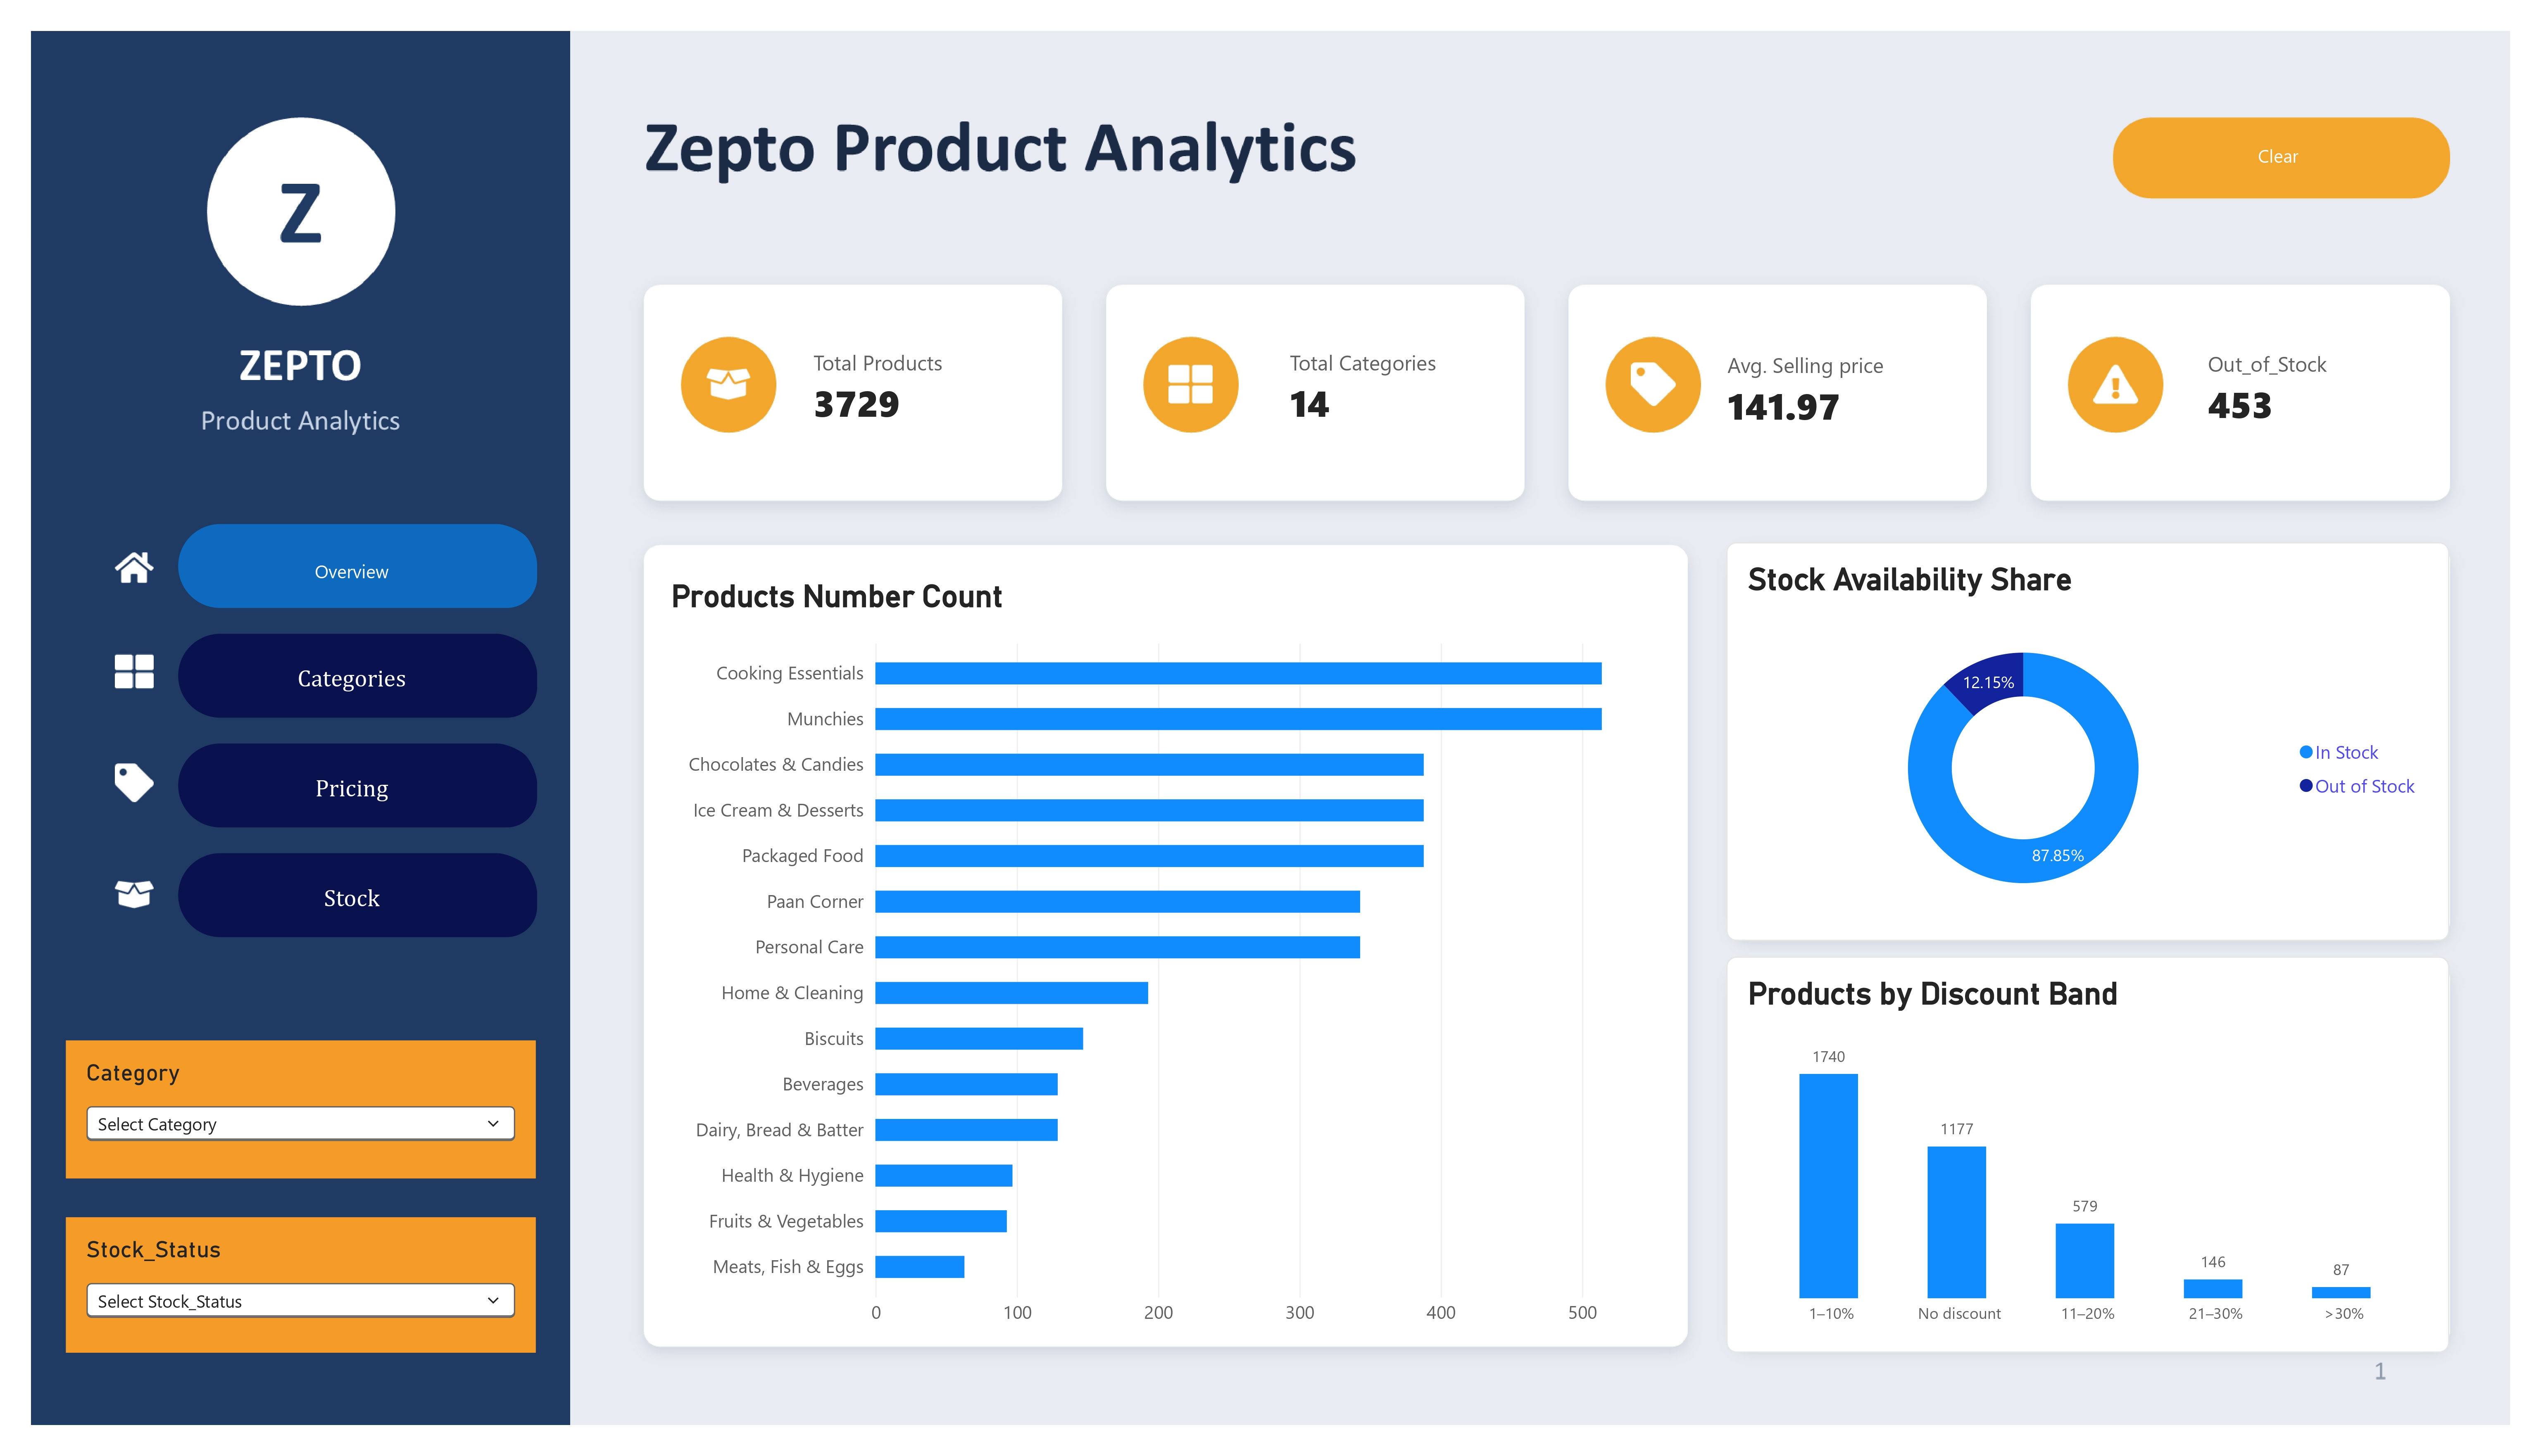

What the dashboard file says about the page in this screenshot:
{"tool":"powerbi","page":{"name":"Overview","canvas":[1920,1080],"ordinal":0},"visuals":[{"type":"cardVisual","fields":{"Data":["Count(zepto_cleaned.product_id)"]},"box":[589.9,211.7,172,129],"z":0},{"type":"cardVisual","fields":{"Data":["Count(zepto_cleaned.category)"]},"box":[959.1,226.2,157.4,101.3],"z":1000},{"type":"cardVisual","fields":{"Data":["Sum(zepto_cleaned.out_of_stock)"]},"box":[1670.3,213.5,143,128.5],"z":2000},{"type":"donutChart","fields":{"Category":["zepto_cleaned.stock_status"],"Y":["CountNonNull(zepto_cleaned.product_id)"]},"box":[1315.6,396.3,557.4,307.6],"z":3000},{"type":"clusteredBarChart","fields":{"Category":["zepto_cleaned.category"],"Y":["CountNonNull(zepto_cleaned.product_id)"]},"box":[483.2,445.2,799.9,579.1],"z":4000},{"type":"clusteredColumnChart","fields":{"Category":["zepto_cleaned.Discount Band"],"Y":["Sum(zepto_cleaned.product_id)"]},"box":[1313.8,711.2,559.2,313.1],"z":5000},{"type":"actionButton","box":[1612.4,65.1,260.6,68.8],"z":6000},{"type":"pageNavigator","box":[114,382,278,322],"z":7000},{"type":"listSlicer","fields":{"Values":["zepto_cleaned.category"]},"box":[27.1,781.8,363.7,106.8],"z":8000},{"type":"listSlicer","fields":{"Values":["zepto_cleaned.stock_status"]},"box":[27.1,919.3,363.7,105],"z":9000},{"type":"cardVisual","fields":{"Data":["Avg(zepto_cleaned.discounted_selling_price)"]},"box":[1297.5,215.3,202.7,126.7],"z":10000},{"type":"textbox","box":[501.3,410.8,763.7,34.4],"z":10001}]}

Visuals, with their boxes on the page's 1920x1080 design canvas (x1, y1, x2, y2). These are canvas units, not pixel positions in the 2541x1456 screenshot, which may show the page scaled, cropped or inside an application window:
cardVisual - Count(zepto_cleaned.product_id): 590,212,762,341
cardVisual - Count(zepto_cleaned.category): 959,226,1116,328
cardVisual - Sum(zepto_cleaned.out_of_stock): 1670,214,1813,342
donutChart - zepto_cleaned.stock_status x CountNonNull(zepto_cleaned.product_id): 1316,396,1873,704
clusteredBarChart - zepto_cleaned.category x CountNonNull(zepto_cleaned.product_id): 483,445,1283,1024
clusteredColumnChart - zepto_cleaned.Discount Band x Sum(zepto_cleaned.product_id): 1314,711,1873,1024
actionButton: 1612,65,1873,134
pageNavigator: 114,382,392,704
listSlicer - zepto_cleaned.category: 27,782,391,889
listSlicer - zepto_cleaned.stock_status: 27,919,391,1024
cardVisual - Avg(zepto_cleaned.discounted_selling_price): 1298,215,1500,342
textbox: 501,411,1265,445
